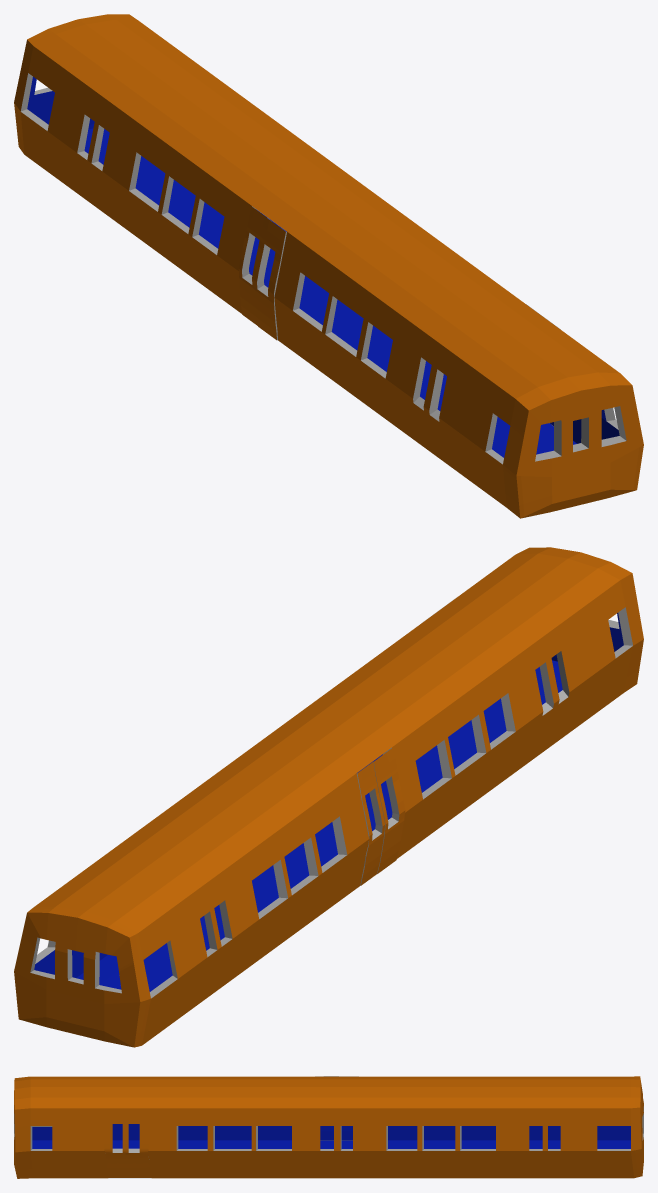
Rendered from TrainBodyNew.fbx.
3 renders of one model, top to bottom at view 1: azimuth 30°, elevation 25°; view 2: azimuth 150°, elevation 25°; view 3: azimuth 270°, elevation 25°, orthographic. The views are drawn at different scales.
Visible parts, largest first — view 1: polySurface7, polySurface14, polySurface15; view 2: polySurface7, polySurface14, polySurface15; view 3: polySurface7, polySurface11, polySurface10, polySurface14, polySurface15.
Part boxes in pixels (left/top/right/bottom): polySurface7: left=14, top=14, right=643, bottom=518; polySurface14: left=254, top=218, right=286, bottom=340; polySurface15: left=238, top=206, right=271, bottom=325; polySurface7: left=14, top=547, right=643, bottom=1047; polySurface14: left=373, top=748, right=405, bottom=873; polySurface15: left=357, top=761, right=385, bottom=885; polySurface7: left=14, top=1076, right=643, bottom=1178; polySurface11: left=125, top=1108, right=151, bottom=1177; polySurface10: left=104, top=1108, right=128, bottom=1177; polySurface14: left=315, top=1076, right=338, bottom=1140; polySurface15: left=339, top=1076, right=358, bottom=1140.
Size of the model in its own units: 374 by 326 by 2501.
